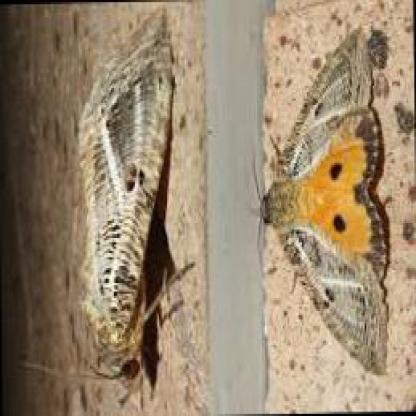fruit sucking moth: (261, 22, 387, 375)
